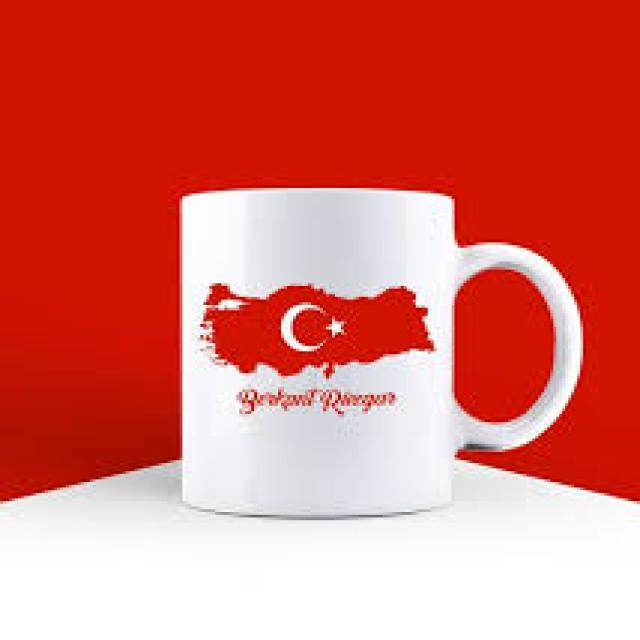taza: (181, 187, 584, 519)
